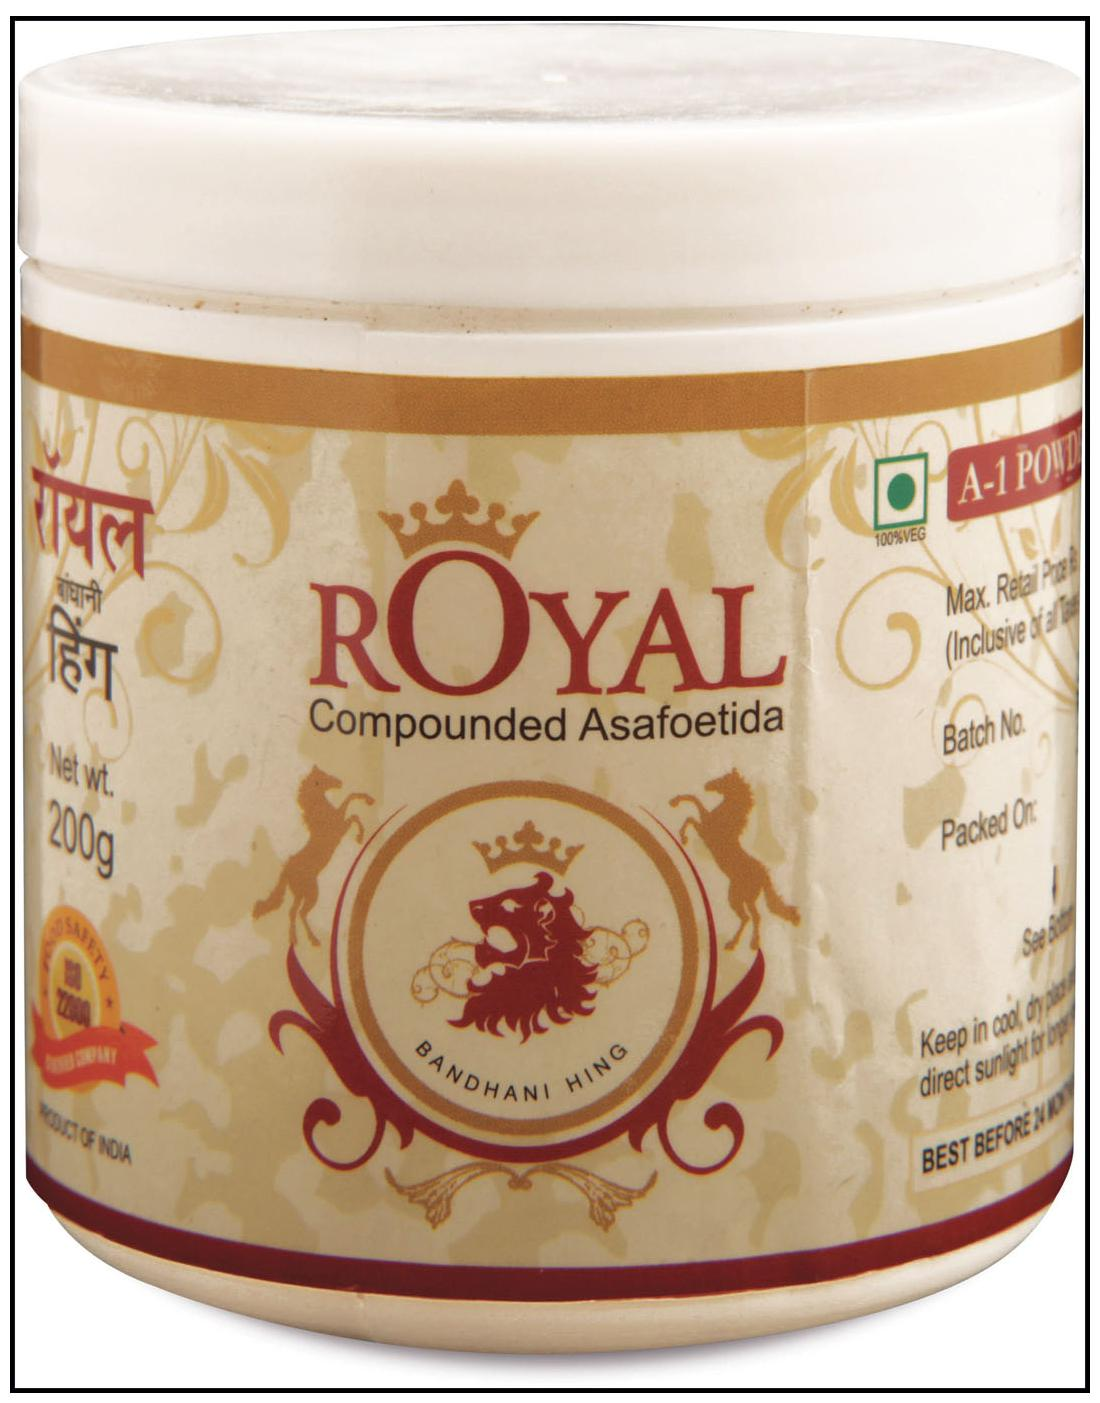JAR: (14, 22, 1081, 1355)
